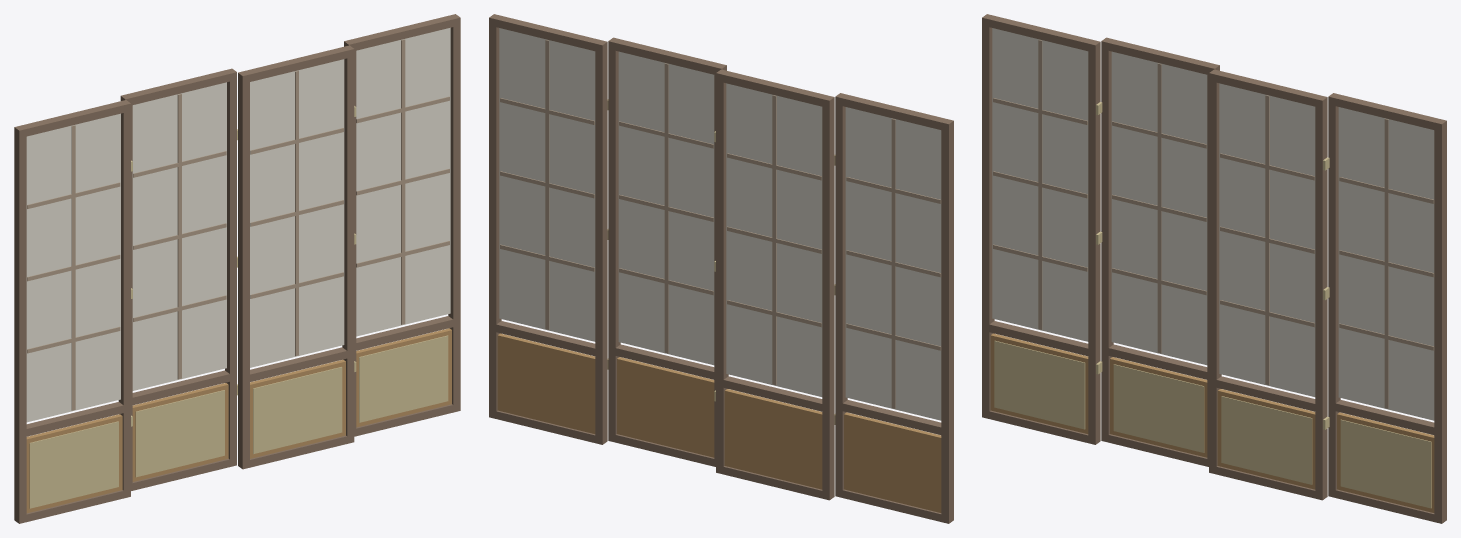
The model's file is prop_four_panel_screen.glb.
3 renders of one model, left to right at view 1: azimuth 30°, elevation 25°; view 2: azimuth 150°, elevation 25°; view 3: azimuth 330°, elevation 25°, orthographic.
Parts seen in each view (by area): view 1: prop_four_panel_screen/screen_paper_panel_00005, prop_four_panel_screen/screen_paper_panel_00035, prop_four_panel_screen/screen_paper_panel_00050, prop_four_panel_screen/screen_paper_panel_00020, prop_four_panel_screen/screen_apron_trim_00011, prop_four_panel_screen/screen_apron_trim_00056, prop_four_panel_screen/screen_apron_trim_00026, prop_four_panel_screen/screen_apron_trim_00041, prop_four_panel_screen/screen_stile_00000, prop_four_panel_screen/screen_stile_00030, prop_four_panel_screen/screen_stile_00031, prop_four_panel_screen/screen_stile_00046 (+24 smaller); view 2: prop_four_panel_screen/screen_paper_panel_00005, prop_four_panel_screen/screen_paper_panel_00050, prop_four_panel_screen/screen_paper_panel_00020, prop_four_panel_screen/screen_paper_panel_00035, prop_four_panel_screen/screen_lotus_apron_00025, prop_four_panel_screen/screen_lotus_apron_00055, prop_four_panel_screen/screen_lotus_apron_00010, prop_four_panel_screen/screen_lotus_apron_00040, prop_four_panel_screen/screen_stile_00000, prop_four_panel_screen/screen_stile_00015, prop_four_panel_screen/screen_stile_00045, prop_four_panel_screen/screen_stile_00001 (+20 smaller); view 3: prop_four_panel_screen/screen_paper_panel_00050, prop_four_panel_screen/screen_paper_panel_00005, prop_four_panel_screen/screen_paper_panel_00035, prop_four_panel_screen/screen_paper_panel_00020, prop_four_panel_screen/screen_apron_trim_00011, prop_four_panel_screen/screen_apron_trim_00026, prop_four_panel_screen/screen_apron_trim_00041, prop_four_panel_screen/screen_apron_trim_00056, prop_four_panel_screen/screen_stile_00046, prop_four_panel_screen/screen_stile_00001, prop_four_panel_screen/screen_stile_00031, prop_four_panel_screen/screen_stile_00030 (+24 smaller).
Boxes of the visible parts, x1=… form: prop_four_panel_screen/screen_paper_panel_00005: x1=26, y1=113, x2=120, y2=422; prop_four_panel_screen/screen_paper_panel_00035: x1=250, y1=59, x2=344, y2=367; prop_four_panel_screen/screen_paper_panel_00050: x1=356, y1=27, x2=450, y2=336; prop_four_panel_screen/screen_paper_panel_00020: x1=132, y1=82, x2=226, y2=390; prop_four_panel_screen/screen_apron_trim_00011: x1=29, y1=421, x2=118, y2=508; prop_four_panel_screen/screen_apron_trim_00056: x1=359, y1=335, x2=448, y2=422; prop_four_panel_screen/screen_apron_trim_00026: x1=135, y1=390, x2=224, y2=477; prop_four_panel_screen/screen_apron_trim_00041: x1=253, y1=367, x2=342, y2=453; prop_four_panel_screen/screen_stile_00000: x1=14, y1=125, x2=26, y2=523; prop_four_panel_screen/screen_stile_00030: x1=238, y1=71, x2=249, y2=469; prop_four_panel_screen/screen_stile_00031: x1=342, y1=45, x2=354, y2=443; prop_four_panel_screen/screen_stile_00046: x1=448, y1=14, x2=460, y2=412; prop_four_panel_screen/screen_paper_panel_00005: x1=845, y1=107, x2=941, y2=420; prop_four_panel_screen/screen_paper_panel_00050: x1=499, y1=28, x2=595, y2=341; prop_four_panel_screen/screen_paper_panel_00020: x1=726, y1=83, x2=822, y2=396; prop_four_panel_screen/screen_paper_panel_00035: x1=618, y1=51, x2=714, y2=365; prop_four_panel_screen/screen_lotus_apron_00025: x1=724, y1=389, x2=822, y2=489; prop_four_panel_screen/screen_lotus_apron_00055: x1=497, y1=333, x2=595, y2=433; prop_four_panel_screen/screen_lotus_apron_00010: x1=844, y1=412, x2=941, y2=512; prop_four_panel_screen/screen_lotus_apron_00040: x1=617, y1=357, x2=714, y2=457; prop_four_panel_screen/screen_stile_00000: x1=941, y1=119, x2=953, y2=523; prop_four_panel_screen/screen_stile_00015: x1=822, y1=95, x2=834, y2=500; prop_four_panel_screen/screen_stile_00045: x1=595, y1=40, x2=607, y2=444; prop_four_panel_screen/screen_stile_00001: x1=835, y1=93, x2=847, y2=497; prop_four_panel_screen/screen_paper_panel_00050: x1=1338, y1=107, x2=1434, y2=420; prop_four_panel_screen/screen_paper_panel_00005: x1=992, y1=28, x2=1088, y2=341; prop_four_panel_screen/screen_paper_panel_00035: x1=1219, y1=83, x2=1315, y2=396; prop_four_panel_screen/screen_paper_panel_00020: x1=1111, y1=51, x2=1207, y2=365; prop_four_panel_screen/screen_apron_trim_00011: x1=994, y1=340, x2=1085, y2=429; prop_four_panel_screen/screen_apron_trim_00026: x1=1113, y1=364, x2=1204, y2=452; prop_four_panel_screen/screen_apron_trim_00041: x1=1221, y1=396, x2=1312, y2=484; prop_four_panel_screen/screen_apron_trim_00056: x1=1340, y1=419, x2=1431, y2=508; prop_four_panel_screen/screen_stile_00046: x1=1434, y1=119, x2=1446, y2=523; prop_four_panel_screen/screen_stile_00001: x1=1088, y1=40, x2=1100, y2=444; prop_four_panel_screen/screen_stile_00031: x1=1315, y1=95, x2=1327, y2=500; prop_four_panel_screen/screen_stile_00030: x1=1209, y1=69, x2=1221, y2=474.
Bounding box in the file's own units: 2.2 × 1.85 × 0.0898.
